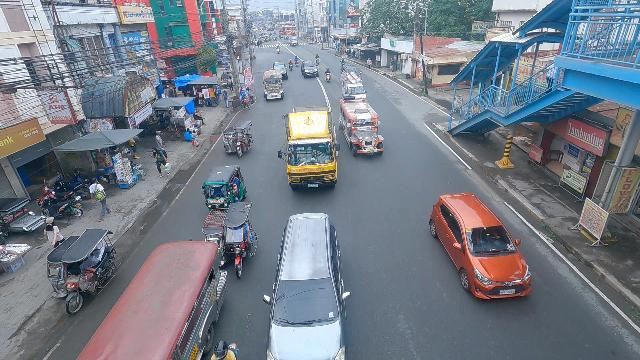car: (260, 210, 354, 360), (300, 60, 319, 79), (271, 61, 287, 80), (341, 64, 359, 73)
jeepney: (74, 238, 230, 360), (338, 97, 386, 161), (263, 70, 285, 103)
motorcycle: (426, 192, 535, 302), (325, 70, 332, 85), (288, 59, 294, 73), (293, 56, 300, 68), (315, 53, 320, 66), (276, 44, 281, 54), (340, 57, 346, 65)
truck: (278, 102, 339, 195)
van: (339, 71, 370, 104), (289, 36, 298, 46)
